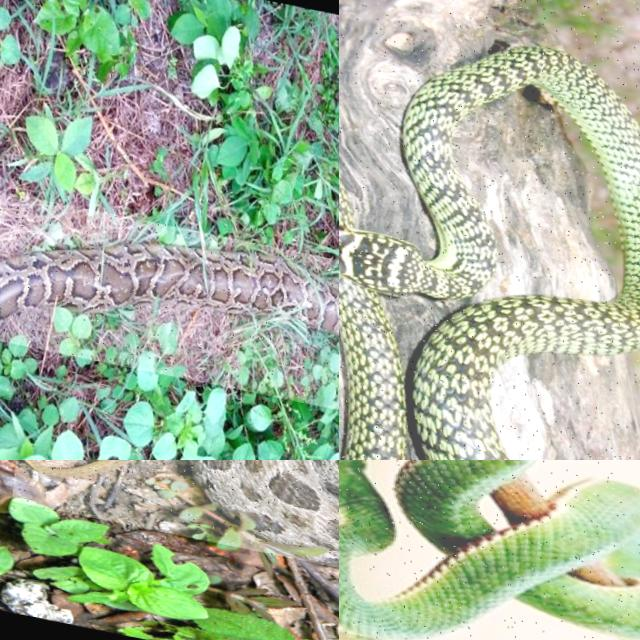Chrysopelea ornata: (339, 47, 639, 459)
Daboia siamensis: (192, 460, 338, 567)
Python bivittatus: (0, 243, 338, 334)
Trimeresurus: (339, 460, 639, 639)
